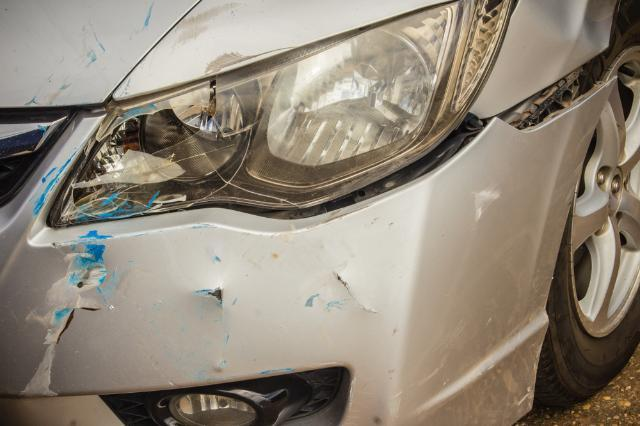crack: (56, 307, 106, 345)
dent: (528, 0, 615, 50)
dislocated part: (242, 49, 618, 426)
lamp broken: (46, 0, 468, 228)
scratch: (20, 227, 116, 343), (470, 186, 499, 223)
